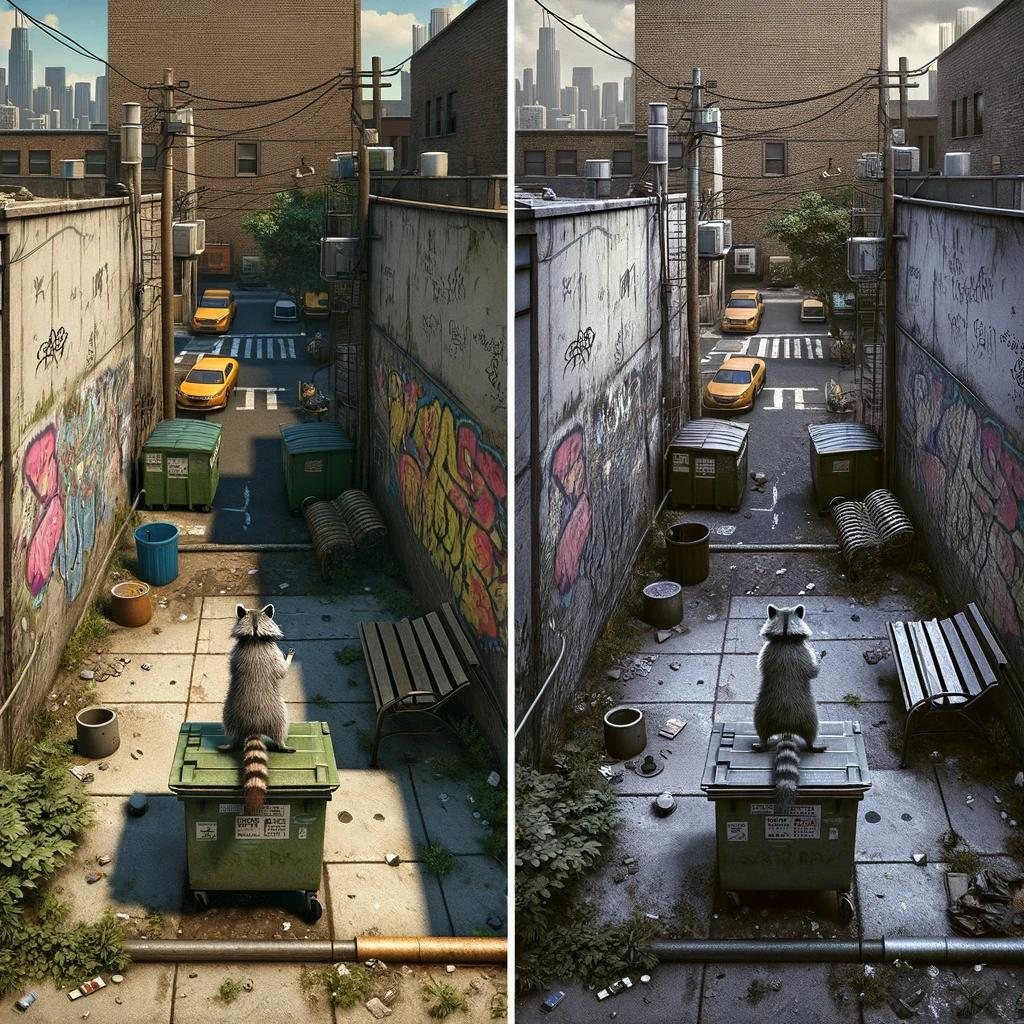raccoon: (740, 597, 837, 825), (210, 595, 302, 825)
